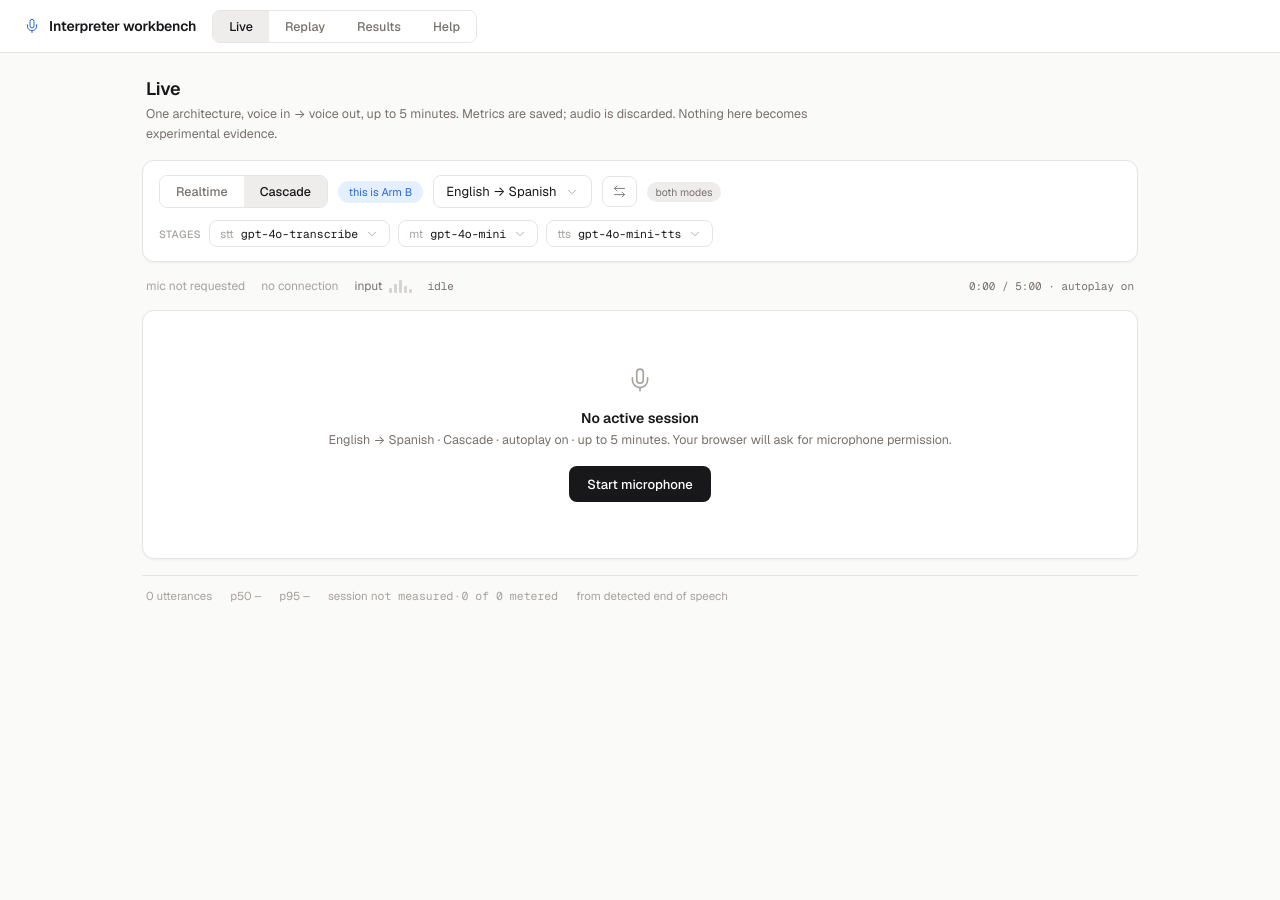
Test case: the utterance duration readout is KEPT — information, not a control › it TRACKS the current utterance in a real session (0.0 s → 2.1 s)
This screenshot has width=1280, height=900.
Click the button "Start microphone" at (640, 484), box [569,466,711,502]
Wait 1250 ms
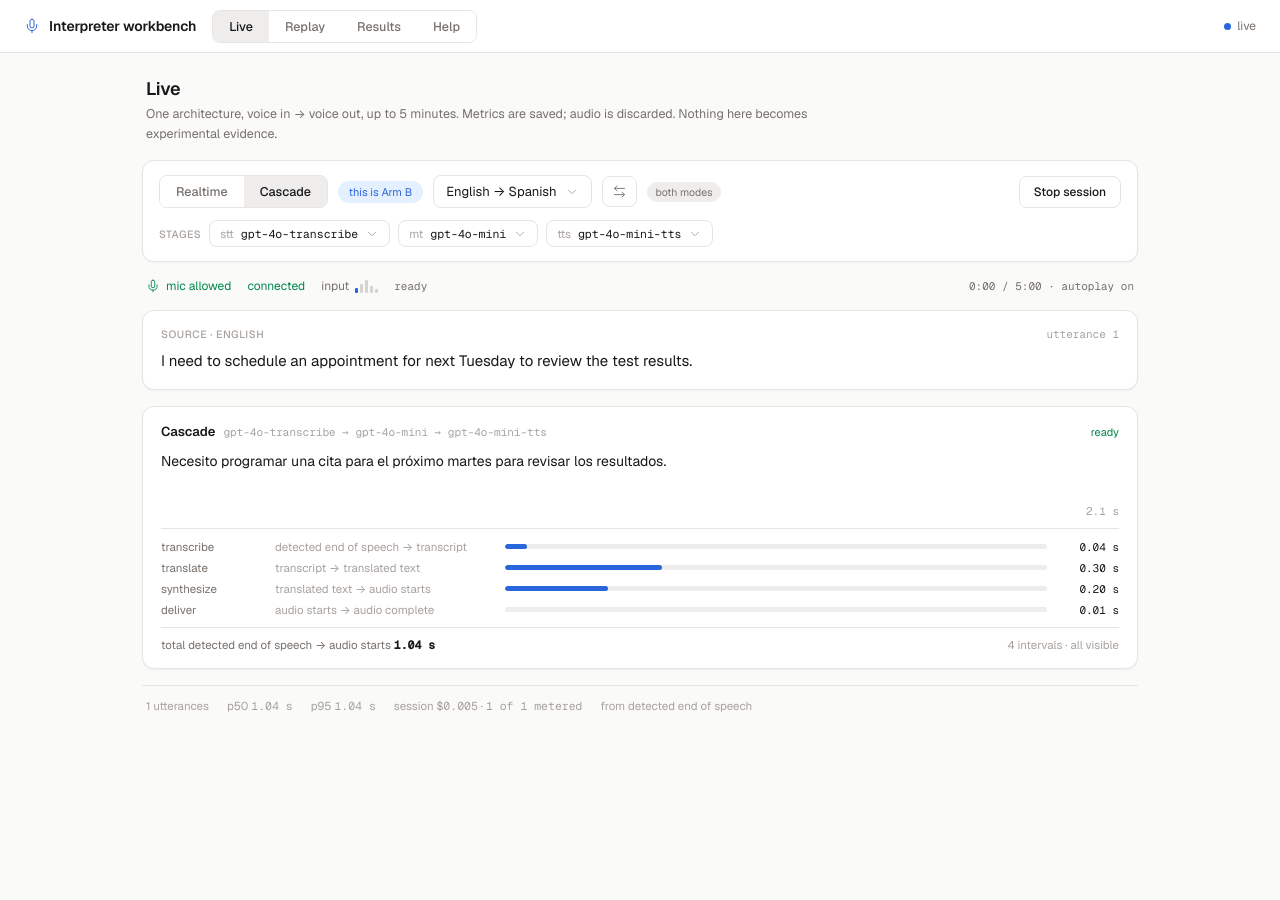
Now the text "2.1 s" is shown, box [1086,504,1119,518]
